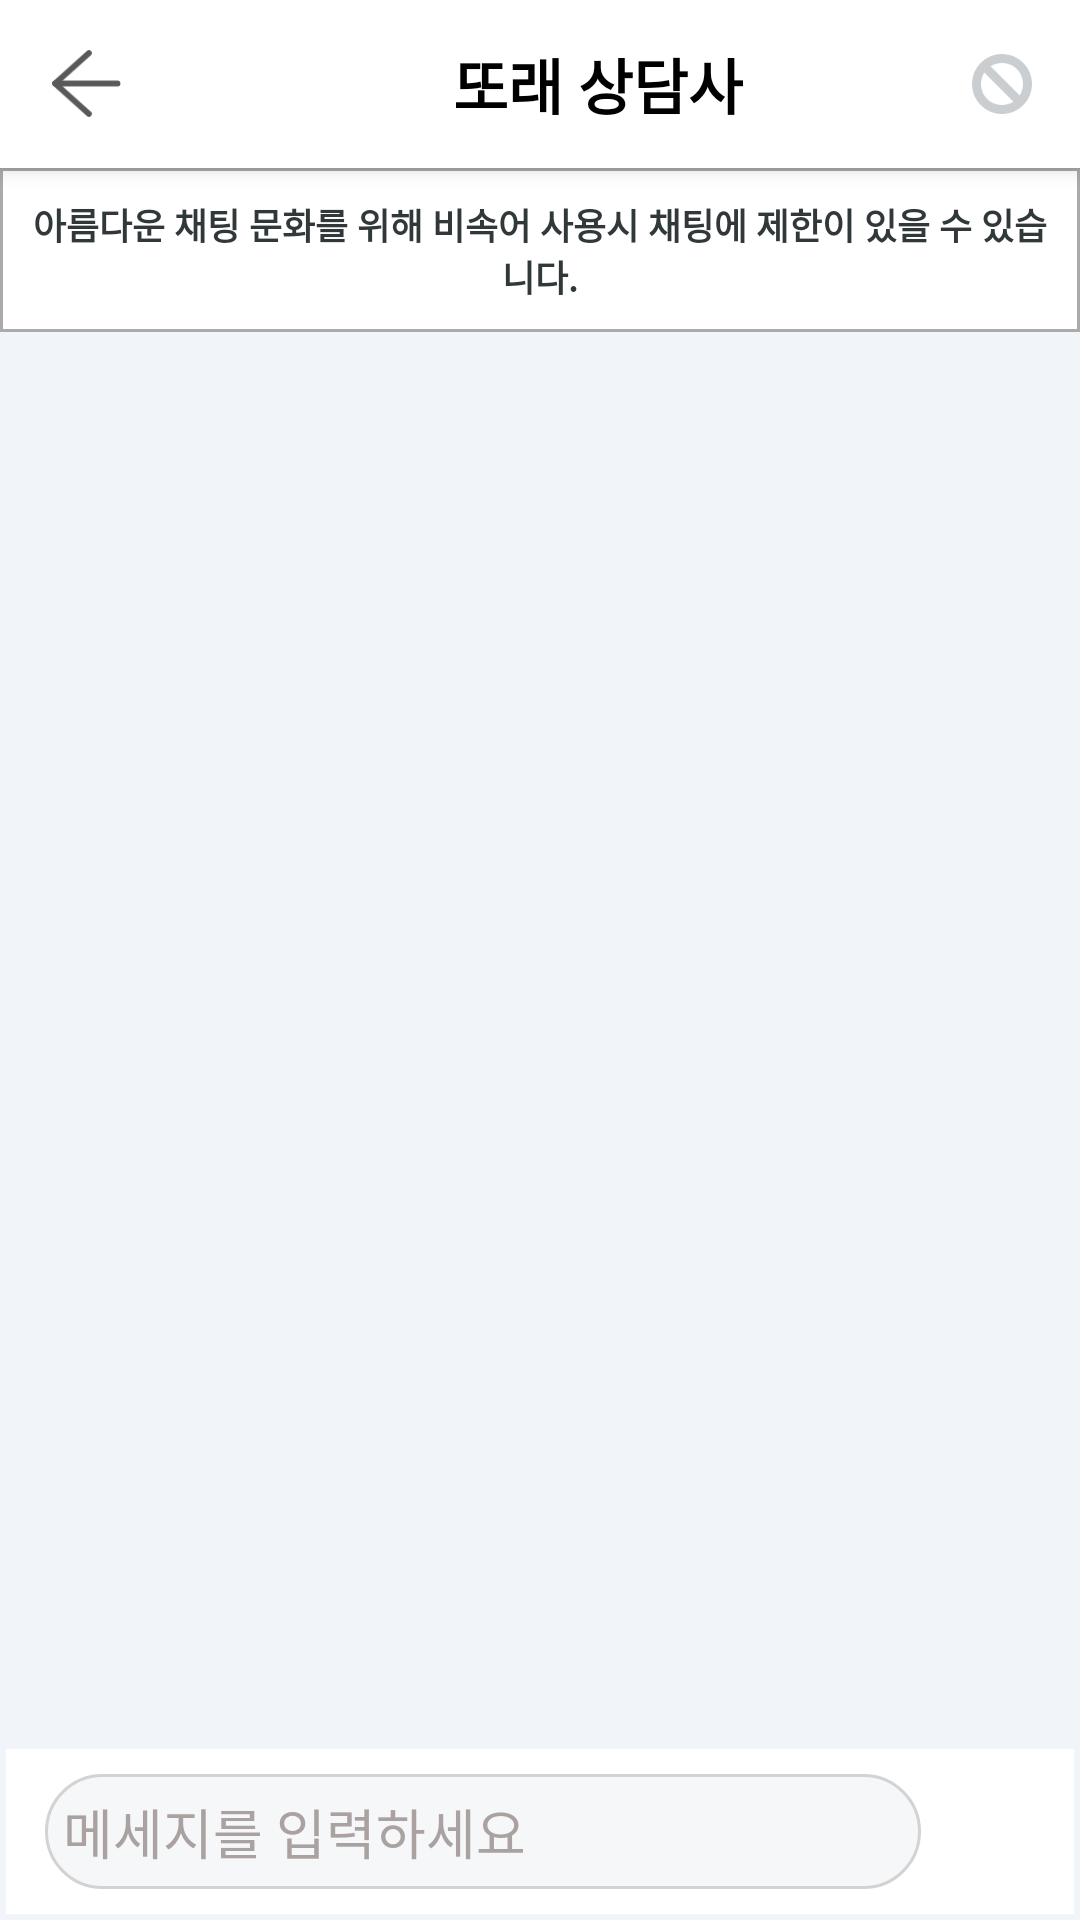

Icon bounding boxes for this 1080 × 1920 phone screenshot, format BBox(x1, y1, x2, y2):
arrow: BBox(52, 50, 121, 117)
ban: BBox(972, 54, 1032, 114)
